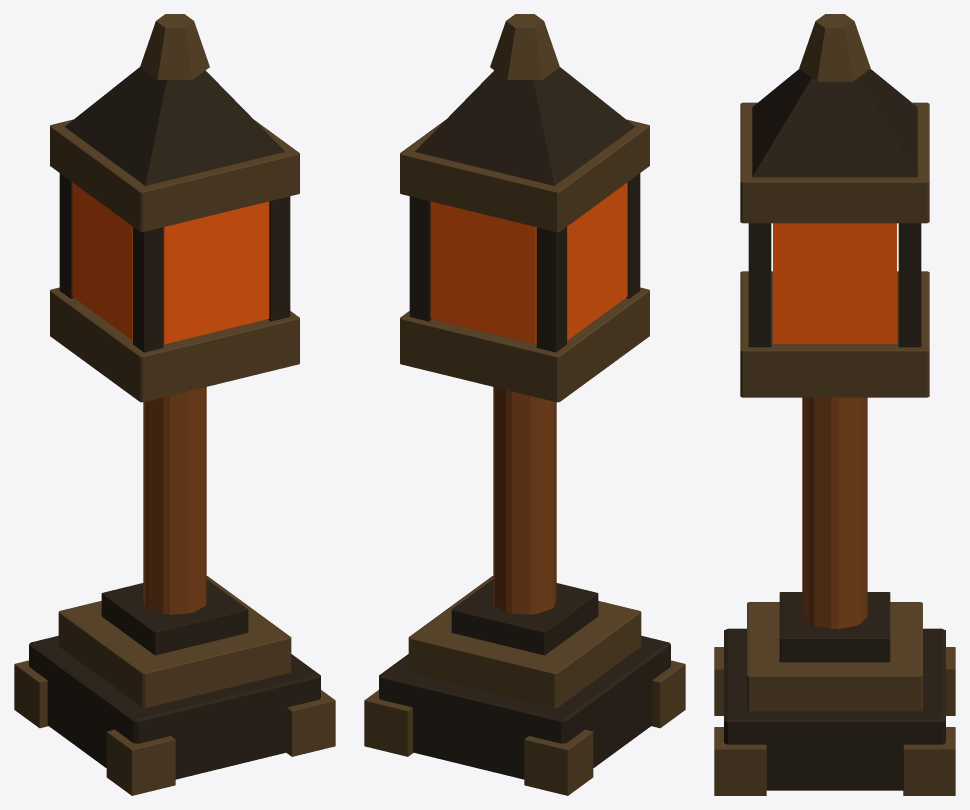
Rendered from track_lantern.fbx.
3 views of the same model, side by side, from view 1: azimuth 30°, elevation 25°; view 2: azimuth 150°, elevation 25°; view 3: azimuth 270°, elevation 25° (orthographic). The views are drawn at different scales.
Parts seen in each view (by area): view 1: Base_Lower, Roof, Wood_Post, Lantern_Base, Base_Upper, Glow_Front, Lantern_Top, Glow_Left, Post_Collar_Low, Frame_-0.23_-0.23, BaseFoot_-0.29_-0.29, Roof_Cap (+4 smaller); view 2: Base_Lower, Roof, Wood_Post, Lantern_Base, Base_Upper, Glow_Back, Lantern_Top, Glow_Left, Post_Collar_Low, Frame_-0.23_0.23, BaseFoot_-0.29_0.29, Roof_Cap (+4 smaller); view 3: Base_Lower, Roof, Wood_Post, Glow_Right, Base_Upper, Lantern_Base, Lantern_Top, Post_Collar_Low, Roof_Cap, Frame_0.23_-0.23, Frame_0.23_0.23, BaseFoot_0.29_-0.29 (+3 smaller).
Boxes of the visible parts, x1,y1,x2,y2 form: Base_Lower: (29, 635, 320, 779); Roof: (65, 67, 284, 185); Wood_Post: (143, 387, 206, 614); Lantern_Base: (50, 287, 299, 402); Base_Upper: (58, 576, 291, 707); Glow_Front: (163, 201, 269, 344); Lantern_Top: (50, 119, 299, 231); Glow_Left: (72, 182, 132, 340); Post_Collar_Low: (101, 579, 248, 655); Frame_-0.23_-0.23: (133, 227, 163, 352); BaseFoot_-0.29_-0.29: (106, 729, 175, 795); Roof_Cap: (140, 14, 209, 79); Base_Lower: (379, 635, 670, 779); Roof: (415, 67, 634, 185); Wood_Post: (493, 387, 556, 614); Lantern_Base: (400, 287, 649, 402); Base_Upper: (408, 576, 641, 707); Glow_Back: (430, 201, 536, 344); Lantern_Top: (400, 119, 649, 231); Glow_Left: (567, 182, 627, 340); Post_Collar_Low: (451, 579, 598, 655); Frame_-0.23_0.23: (536, 227, 566, 352); BaseFoot_-0.29_0.29: (524, 729, 593, 795); Roof_Cap: (490, 14, 559, 79); Base_Lower: (724, 628, 945, 790); Roof: (752, 69, 917, 177); Wood_Post: (802, 397, 867, 628); Glow_Right: (773, 223, 896, 343); Base_Upper: (747, 602, 922, 711); Lantern_Base: (740, 271, 929, 397); Lantern_Top: (740, 102, 929, 223); Post_Collar_Low: (779, 592, 890, 662); Roof_Cap: (799, 14, 870, 81); Frame_0.23_-0.23: (748, 223, 771, 347); Frame_0.23_0.23: (898, 223, 921, 347); BaseFoot_0.29_-0.29: (714, 727, 766, 795).
Bounding box in the file's own units: 0.74 × 2.45 × 0.74.
4 materials, 4 textured.
